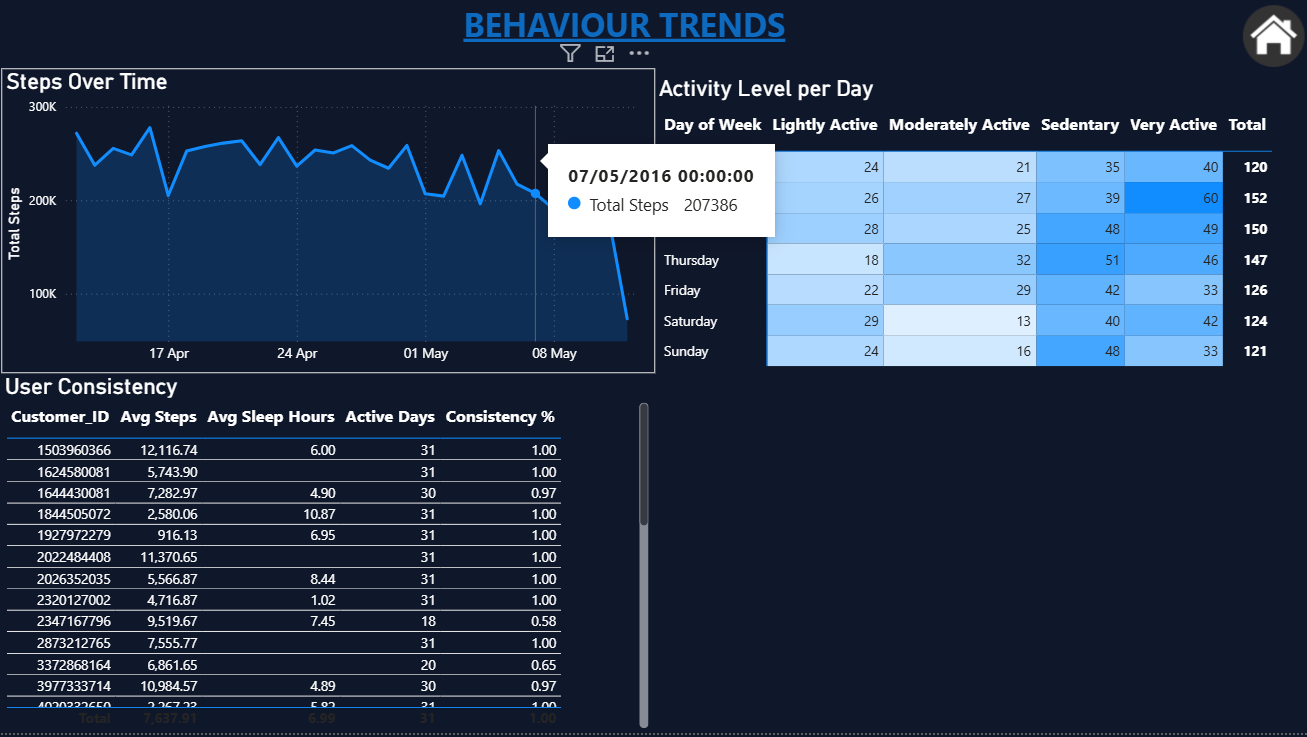

What the dashboard file says about the page in this screenshot:
{"tool":"powerbi","page":{"name":"Behaviour Trends","canvas":[1280,720],"ordinal":3},"visuals":[{"type":"stackedAreaChart","title":"Steps Over Time","fields":{"Category":["Date_Table.Date.Variation.Date Hierarchy.Year"],"Y":["_Measures.Total Steps"]},"box":[1.2,69.7,639.5,298.4],"z":0},{"type":"pivotTable","title":"Activity Level per Day","fields":{"Values":["CountNonNull(Daily_activity.Activity_Level)"],"Columns":["Daily_activity.Activity_Level"],"Rows":["Date_Table.Day of Week"]},"box":[639.5,77,640.8,359.5],"z":1000},{"type":"tableEx","title":"User Consistency","fields":{"Values":["Users_Table.Customer_ID","_Measures.Avg Steps","_Measures.Avg Sleep Hours","_Measures.Active Days","_Measures.Consistency %"]},"box":[0,368.1,639.5,352.2],"z":2000},{"type":"textbox","box":[291,0,639.5,64.8],"z":2001},{"type":"actionButton","box":[1211.5,0,68.5,77],"z":2002}]}

Visuals, with their boxes in screenshot pixels (x1, y1, x2, y2), scaled from the page's 1280x720 canvas onto the 1307x737 screenshot:
"Steps Over Time" stackedAreaChart: BBox(1, 71, 654, 377)
"Activity Level per Day" pivotTable: BBox(653, 79, 1306, 447)
"User Consistency" tableEx: BBox(0, 377, 653, 736)
textbox: BBox(297, 0, 950, 66)
actionButton: BBox(1237, 0, 1306, 79)
